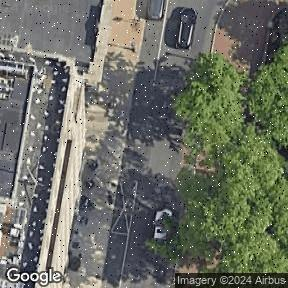vegetation: (147, 41, 288, 273)
